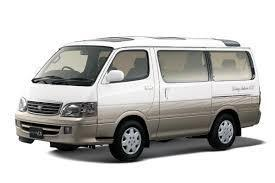Van: (15, 35, 263, 147)
